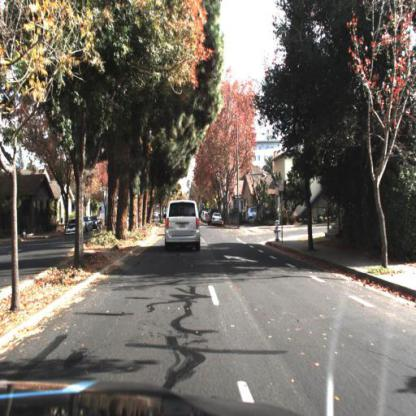car: (159, 200, 209, 254), (246, 204, 273, 226), (66, 218, 82, 236), (211, 211, 224, 227), (68, 219, 80, 236), (85, 216, 93, 234)
